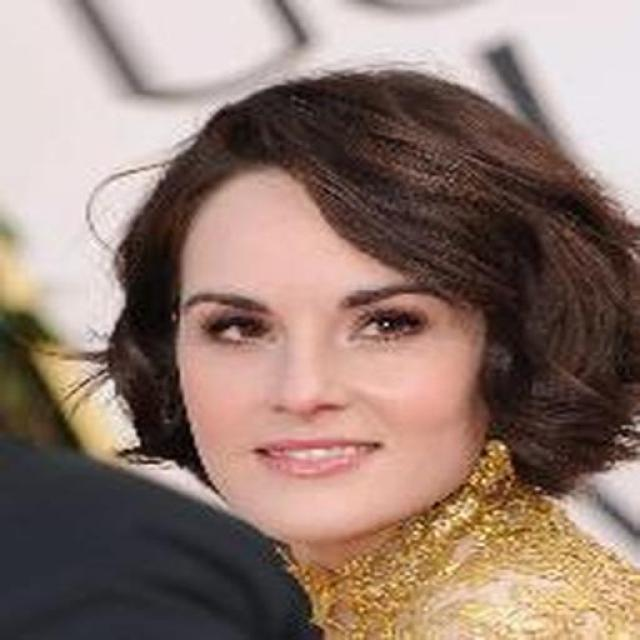bareface: (120, 83, 606, 556)
